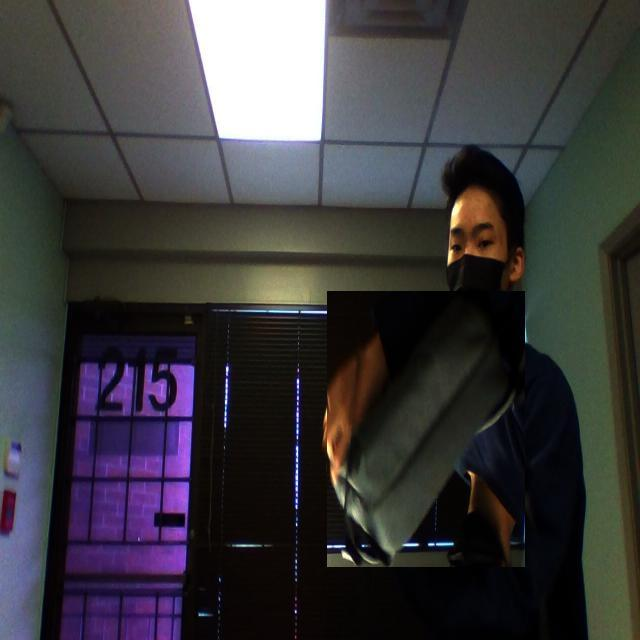Backpacks: (326, 291, 525, 568)
